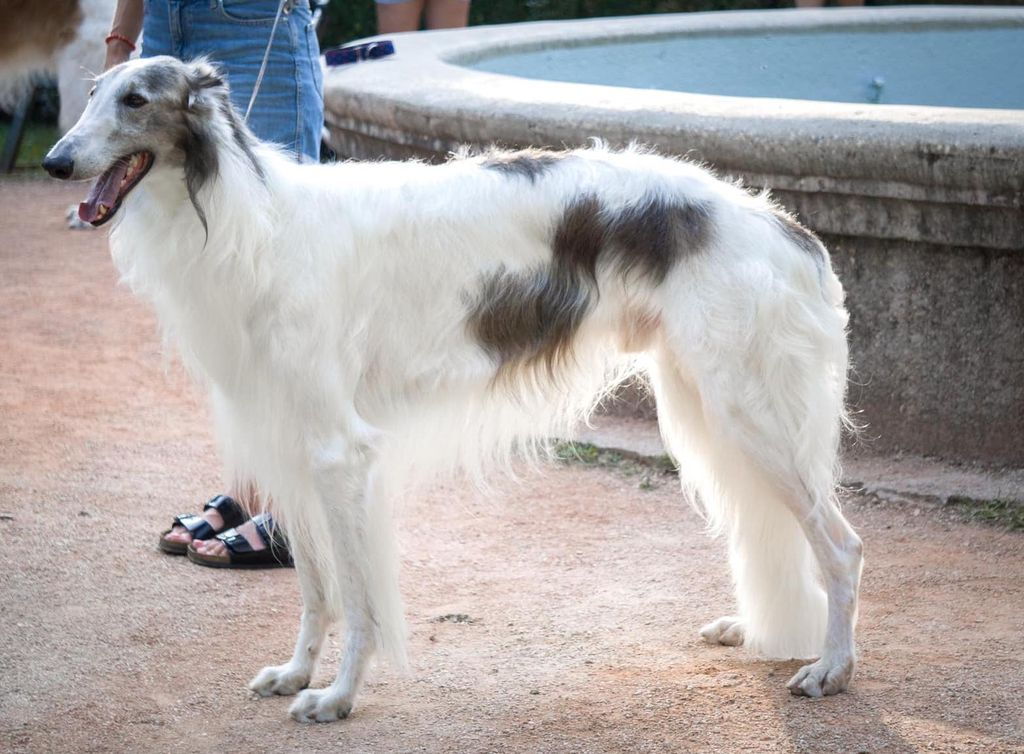borzoi: (44, 61, 881, 724)
